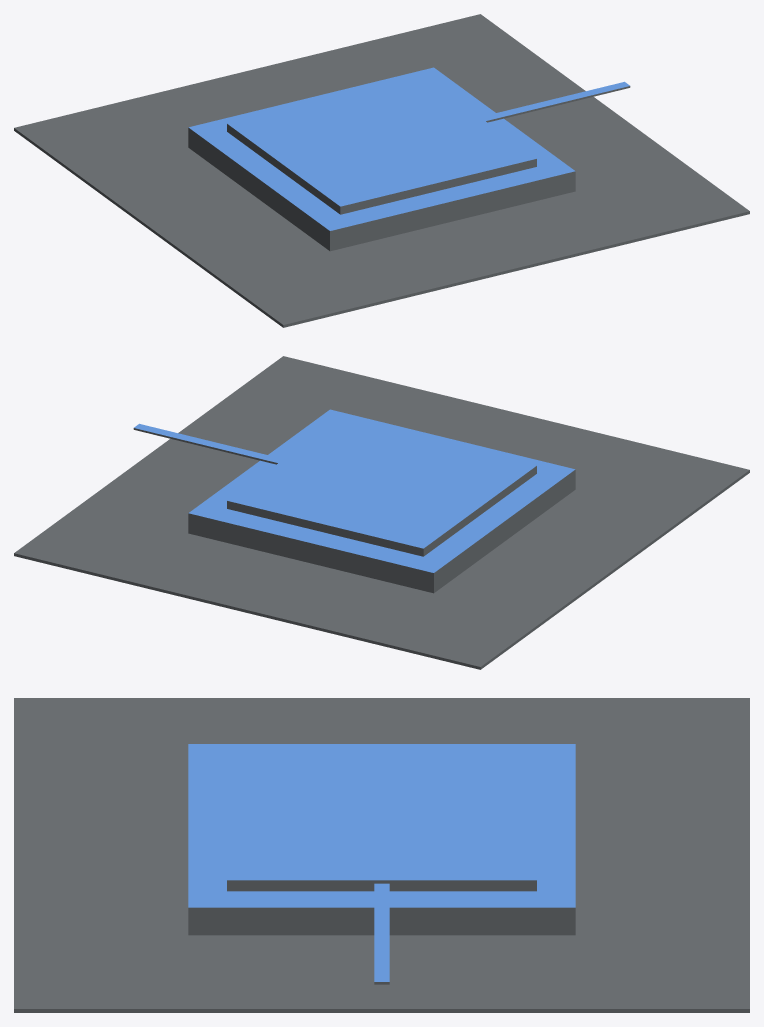
File: network_automated_gun_rubble.glb
3 views of the same model, one above another, from view 1: azimuth 30°, elevation 25°; view 2: azimuth 150°, elevation 25°; view 3: azimuth 270°, elevation 25° (orthographic). The views are drawn at different scales.
Parts seen in each view (by area): view 1: hull, turret, barrel; view 2: hull, turret, barrel; view 3: hull, turret, barrel.
Boxes of the visible parts, x1,y1,x2,y2 form: hull: [14, 14, 749, 327]; turret: [227, 75, 536, 214]; barrel: [480, 81, 630, 122]; hull: [14, 356, 749, 669]; turret: [227, 417, 536, 556]; barrel: [133, 423, 283, 464]; hull: [14, 698, 749, 1012]; turret: [227, 749, 536, 891]; barrel: [374, 883, 389, 984].
Size of the model in its own units: 7.8 by 0.486 by 7.6.
